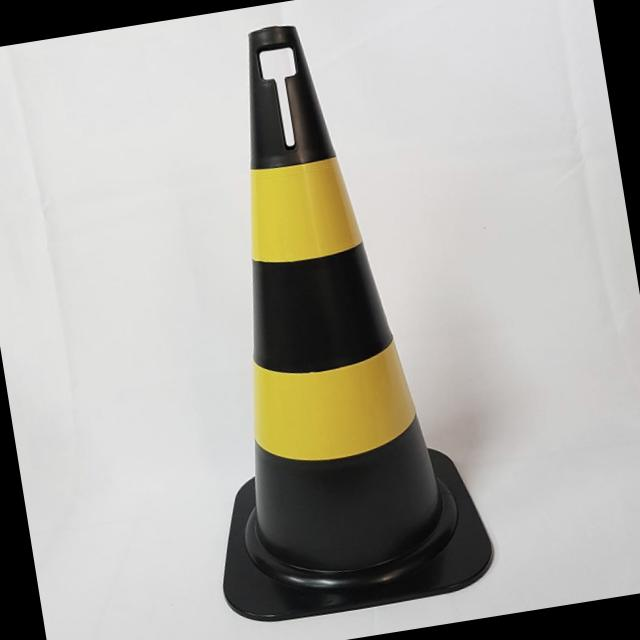cone: (136, 3, 505, 614)
